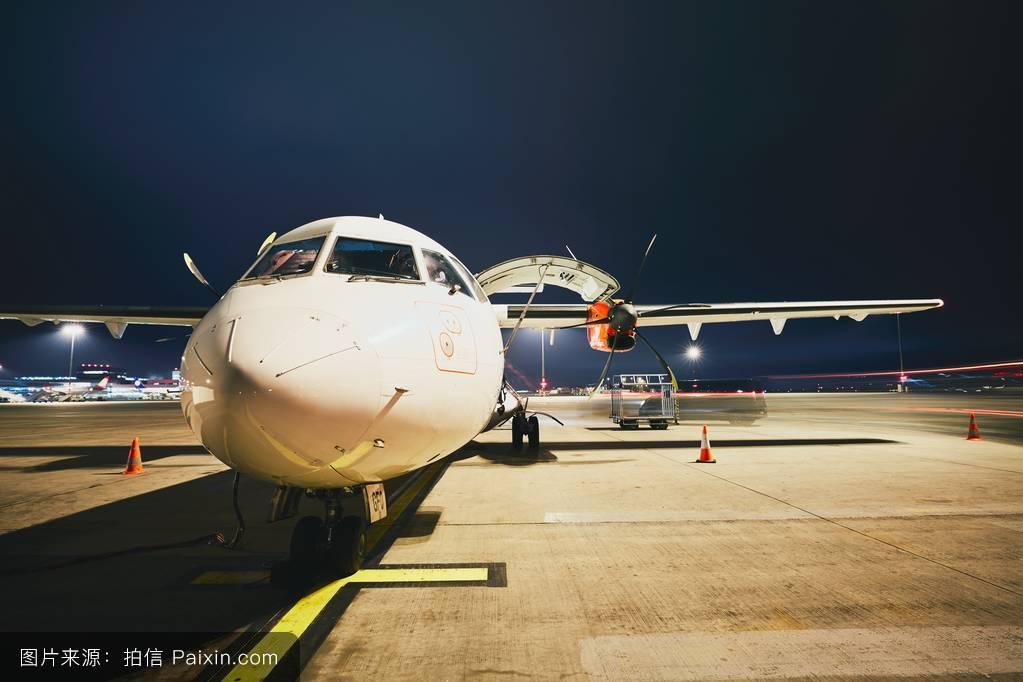airplane: (3, 214, 941, 546)
